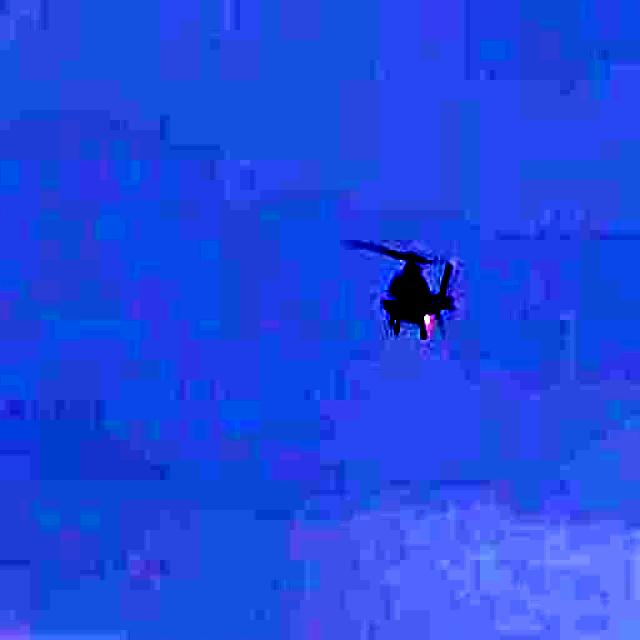drone: (322, 218, 499, 358)
